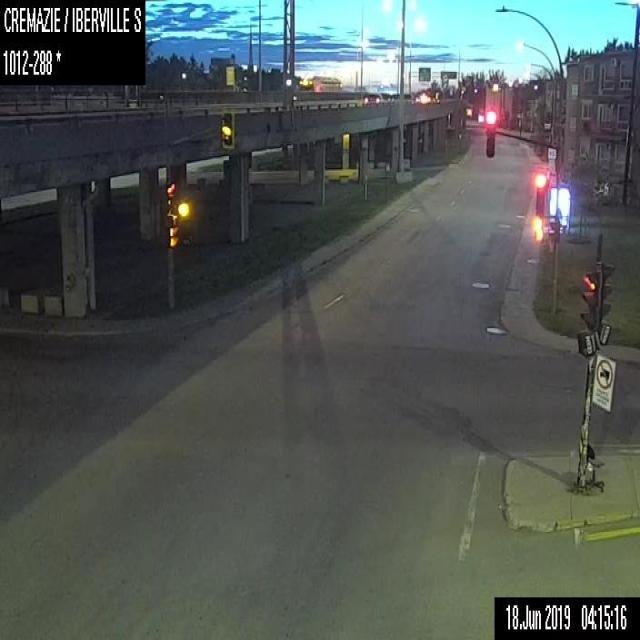bus: (298, 75, 341, 91)
vehicle: (364, 92, 384, 105)
